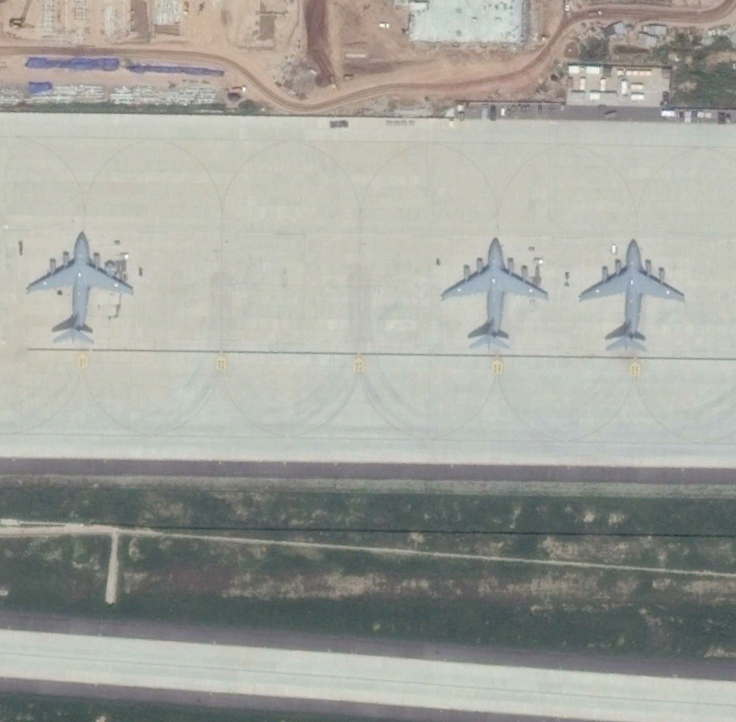A3: (573, 229, 694, 362), (437, 226, 558, 359), (22, 222, 138, 348)
